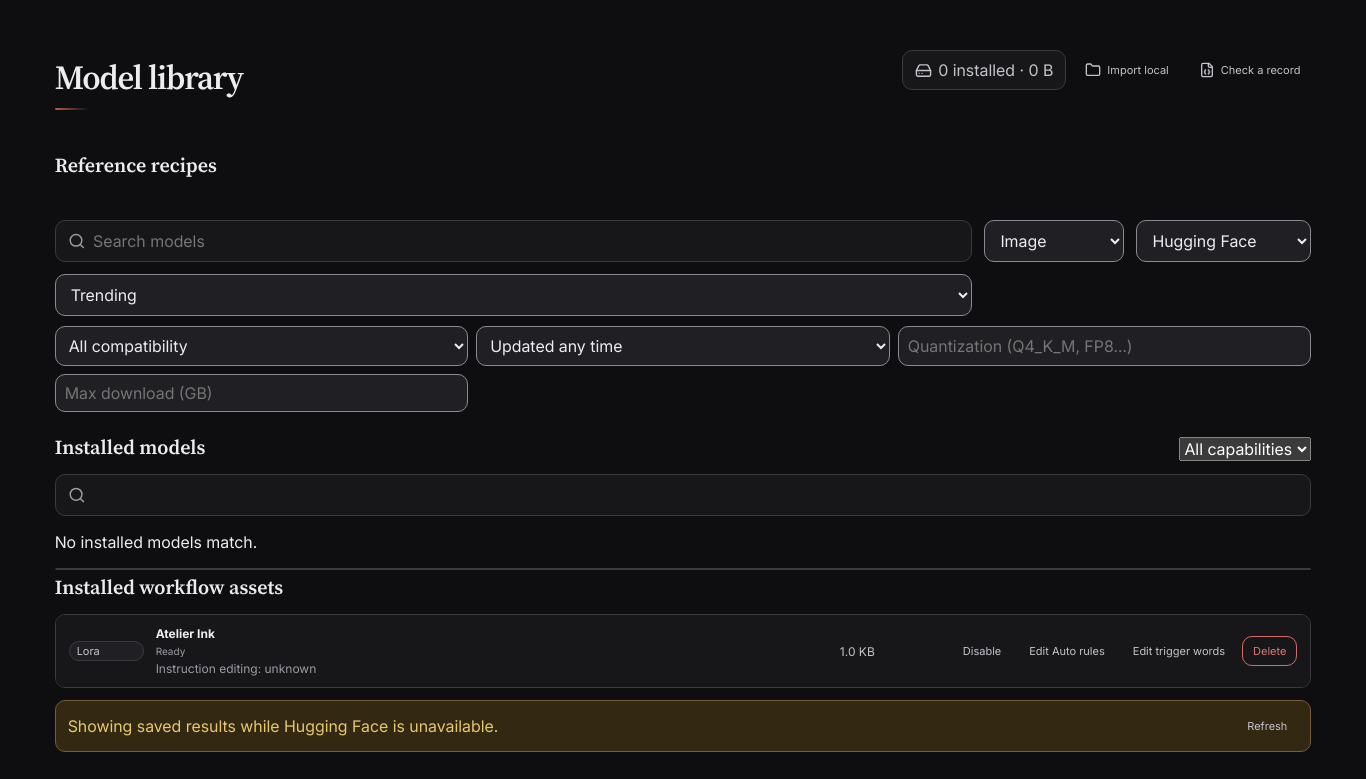
Test case: base model of an installed LoRA › says a LoRA used automatically is never chosen without a base model
The width and height of the screenshot is (1366, 779).
Expected: the text "Atelier Ink" is shown, x1=156 y1=626 x2=215 y2=641
Click the button "Edit Auto rules": {"x": 1067, "y": 651} x1=1018 y1=636 x2=1116 y2=666
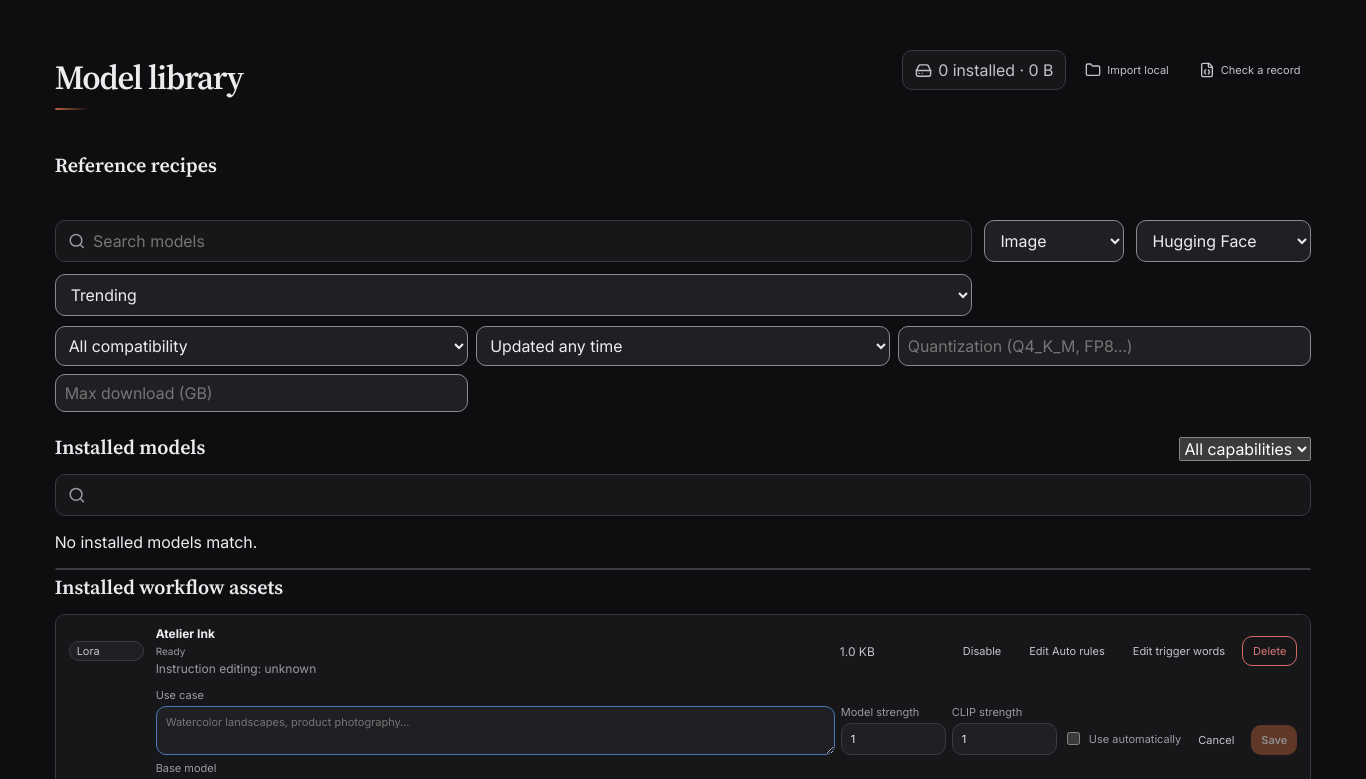
Expected: the text "Without a base model, it is never chosen automatically." is not shown
Click the checkbox named "Use Atelier Ink automatically": {"x": 1073, "y": 739} x1=1067 y1=732 x2=1080 y2=745
(page scrolled)
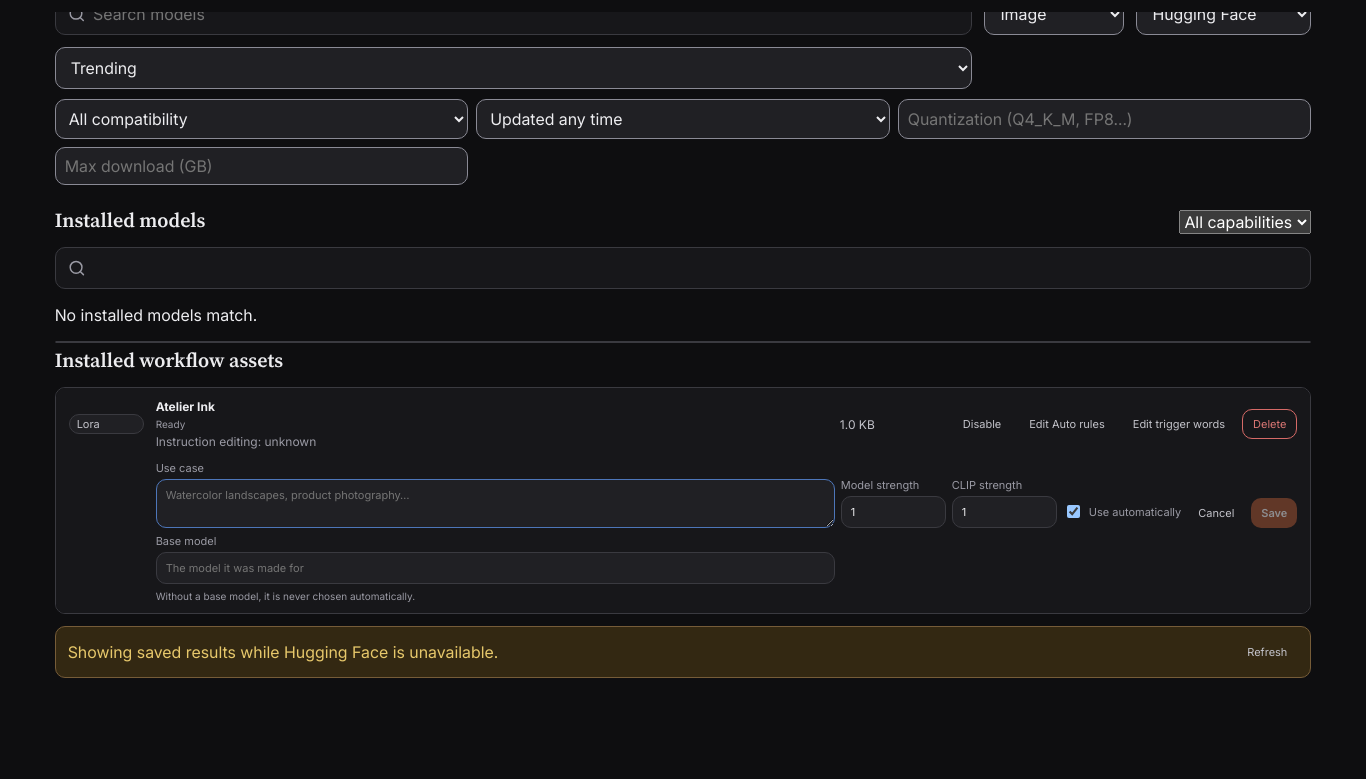
Expected: the text "Without a base model, it is never chosen automatically." is shown, x1=156 y1=590 x2=415 y2=602
In the field named "Base model for Atelier Ink": {"x": 495, "y": 568} x1=156 y1=552 x2=835 y2=584, type "sdxl"
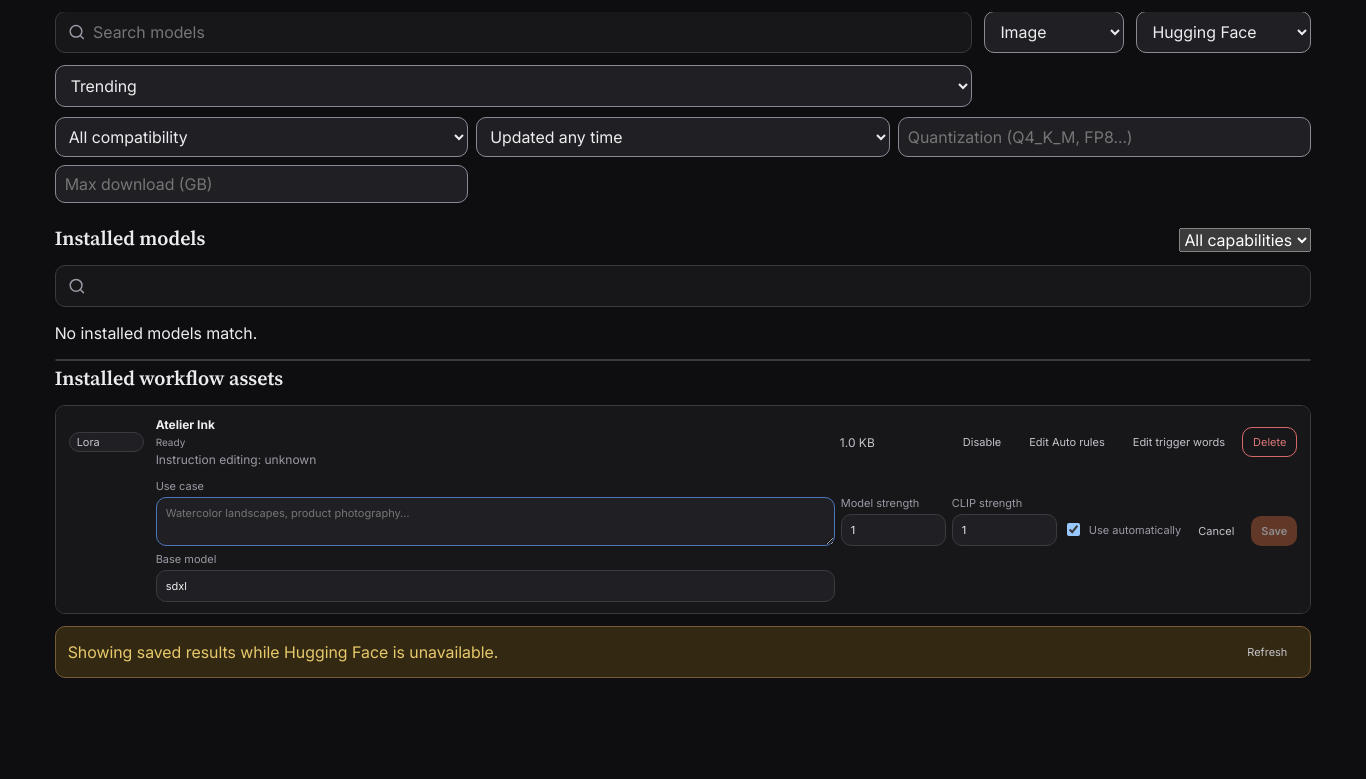
Expected: the text "Without a base model, it is never chosen automatically." is gone
